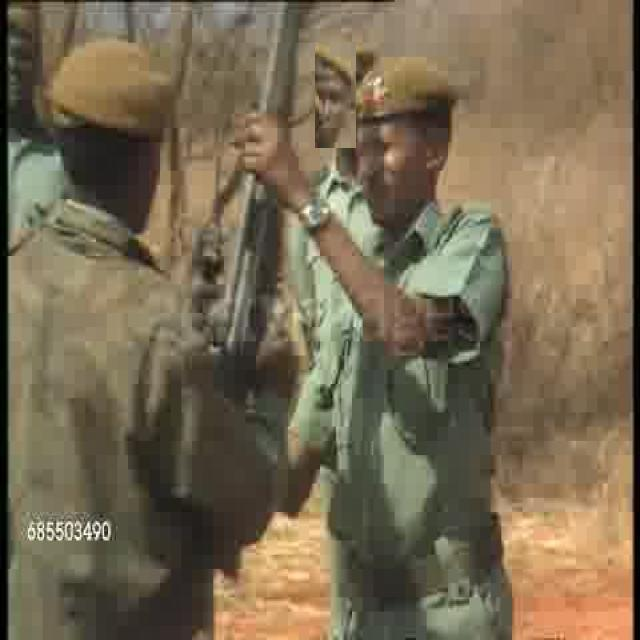Hunter: (32, 29, 222, 636), (337, 39, 523, 608)
Rifle: (227, 12, 290, 350)
